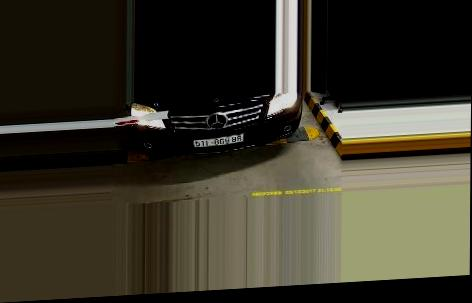License_Plate: (191, 133, 245, 151)
